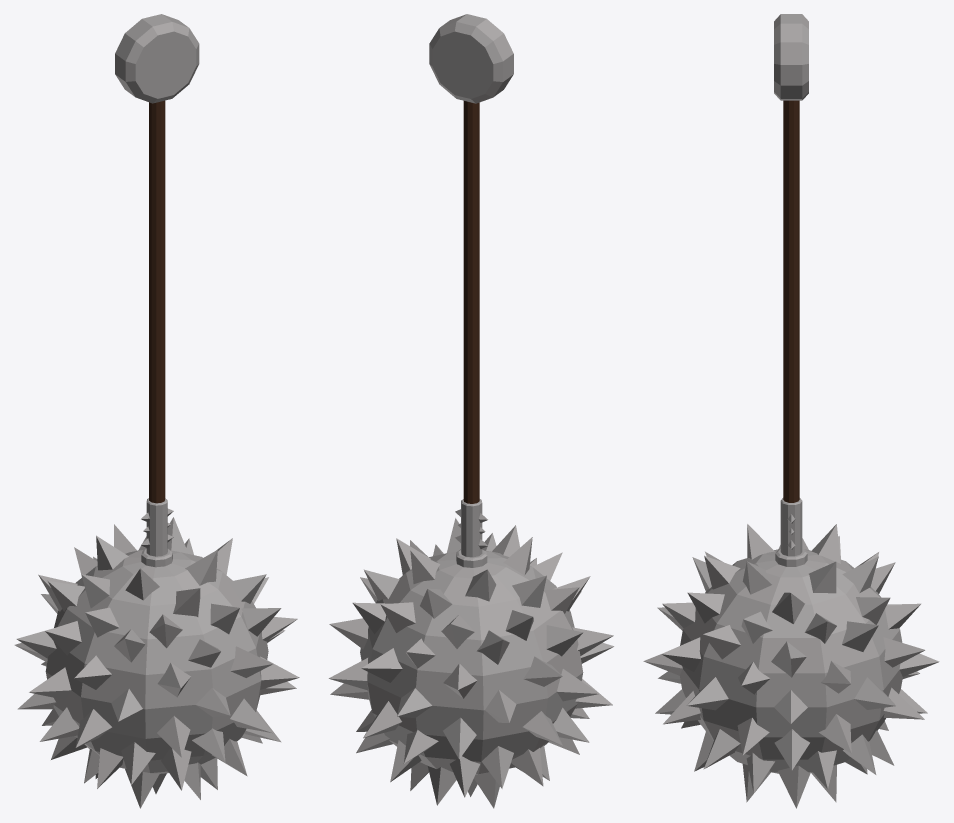
The model's file is MetalPendulumTrap_12.fbx.
The picture shows the model from 3 angles, left to right: view 1: azimuth 30°, elevation 25°; view 2: azimuth 150°, elevation 25°; view 3: azimuth 270°, elevation 25°; orthographic projection.
Visible parts, largest first — view 1: MetalPendulumTrap_12; view 2: MetalPendulumTrap_12; view 3: MetalPendulumTrap_12.
Boxes of the visible parts, <box> form: MetalPendulumTrap_12: <box>14,14,299,808</box>; MetalPendulumTrap_12: <box>328,14,614,808</box>; MetalPendulumTrap_12: <box>643,14,939,808</box>.
Bounding box in the file's own units: 132 × 381 × 132.
